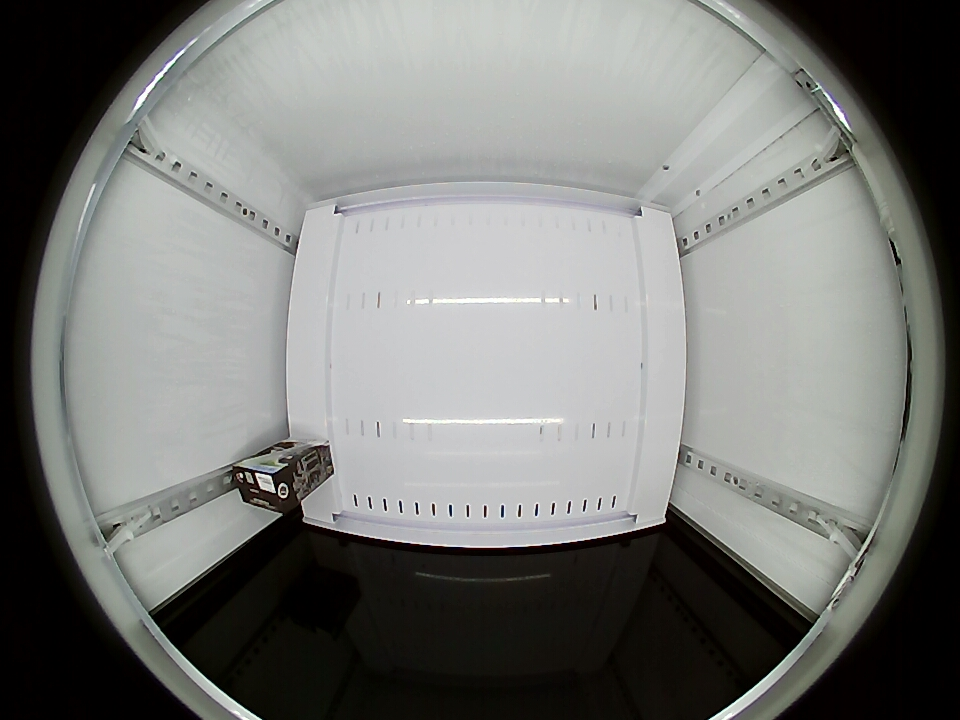weitanai2: (232, 455, 303, 515)
